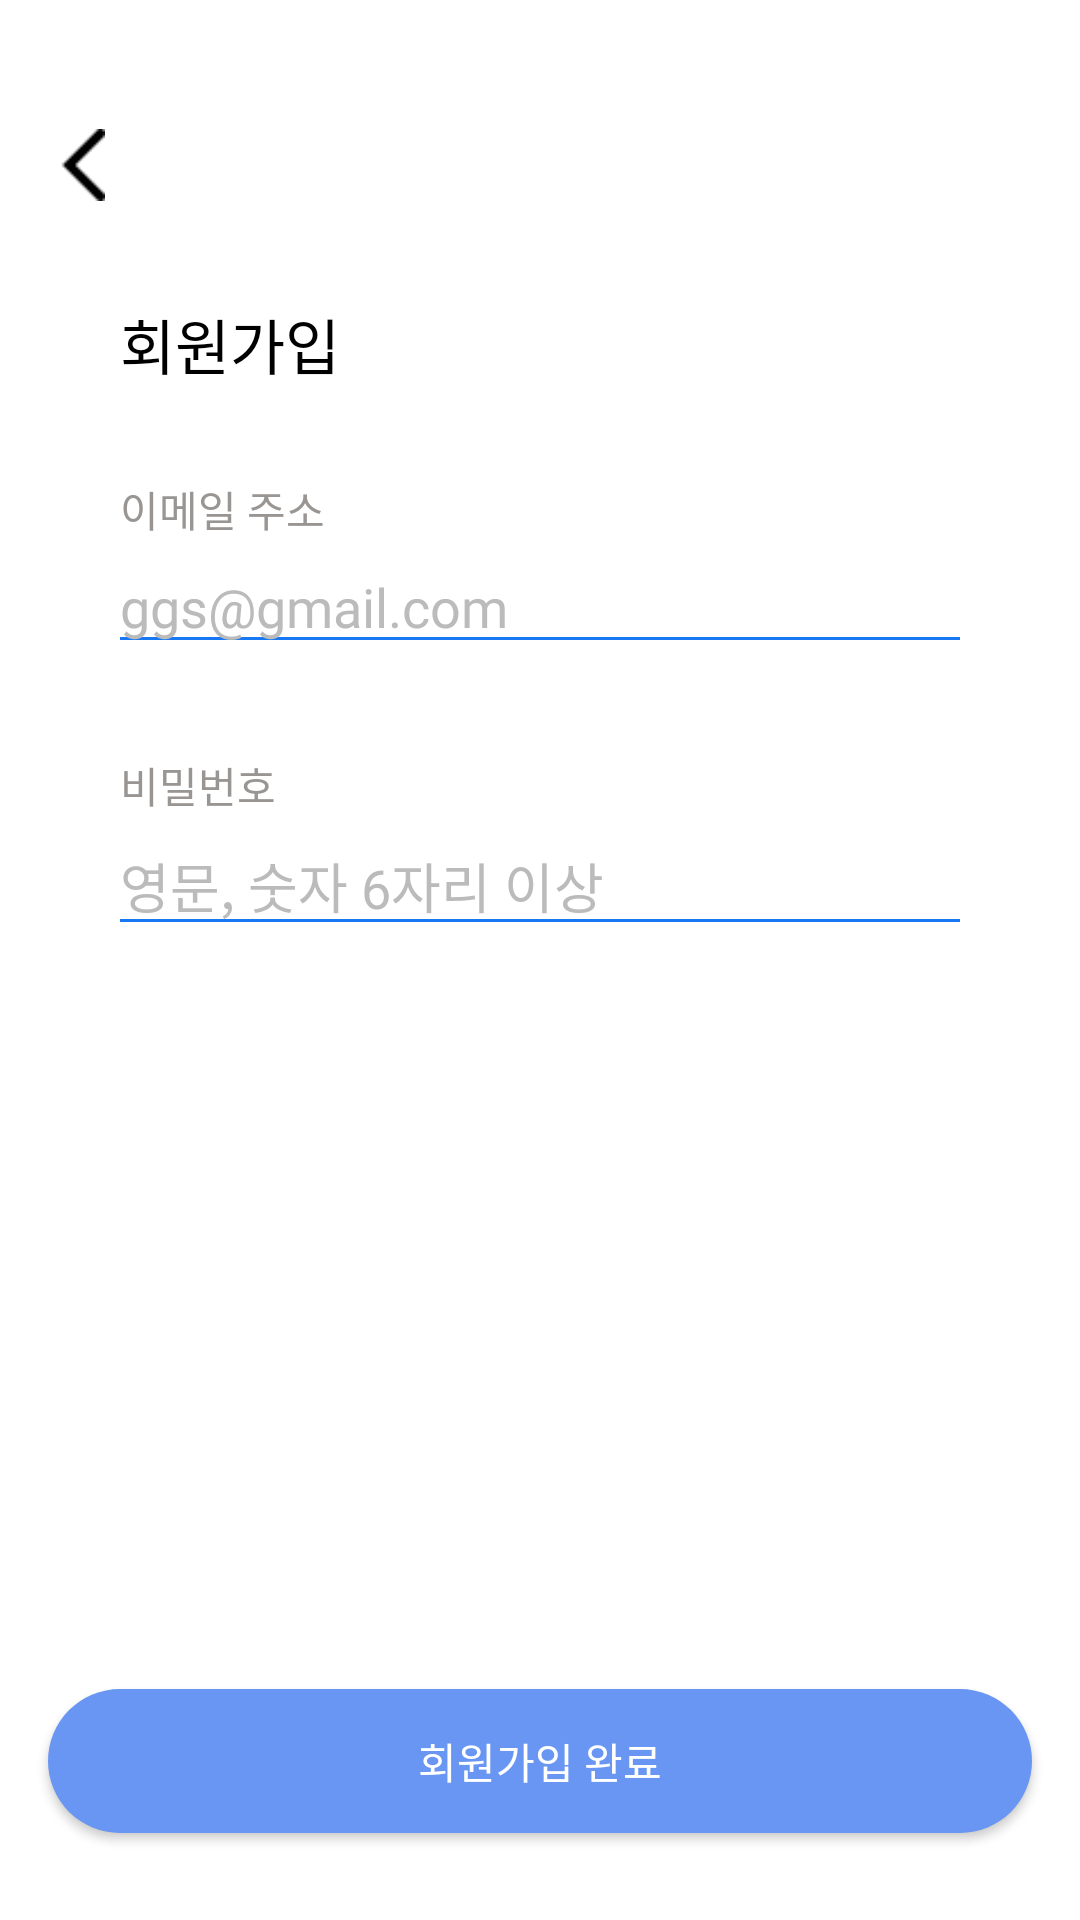

Named icons in this screenshot (1080px x 1920px) and their bounding boxes, (x1, y1, x2, y2):
backbtn: (62, 129, 105, 201)
